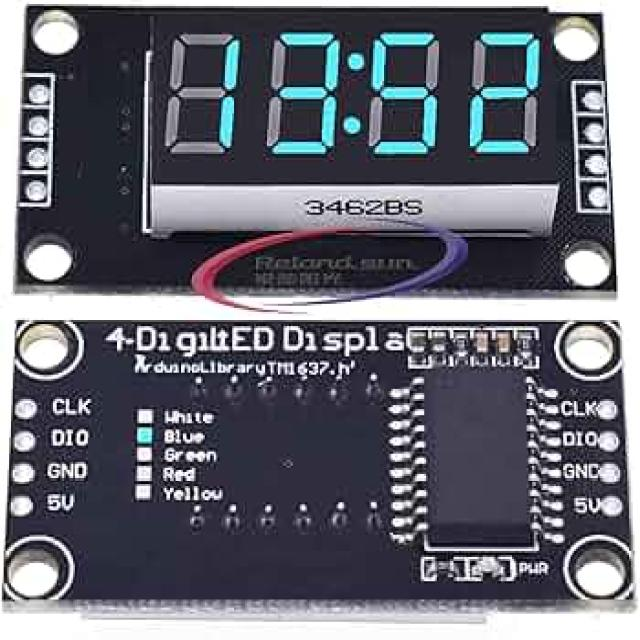display: (148, 8, 560, 241)
frame: (162, 27, 544, 172), (302, 192, 382, 218), (104, 322, 130, 357), (296, 358, 334, 379), (44, 490, 64, 515)
